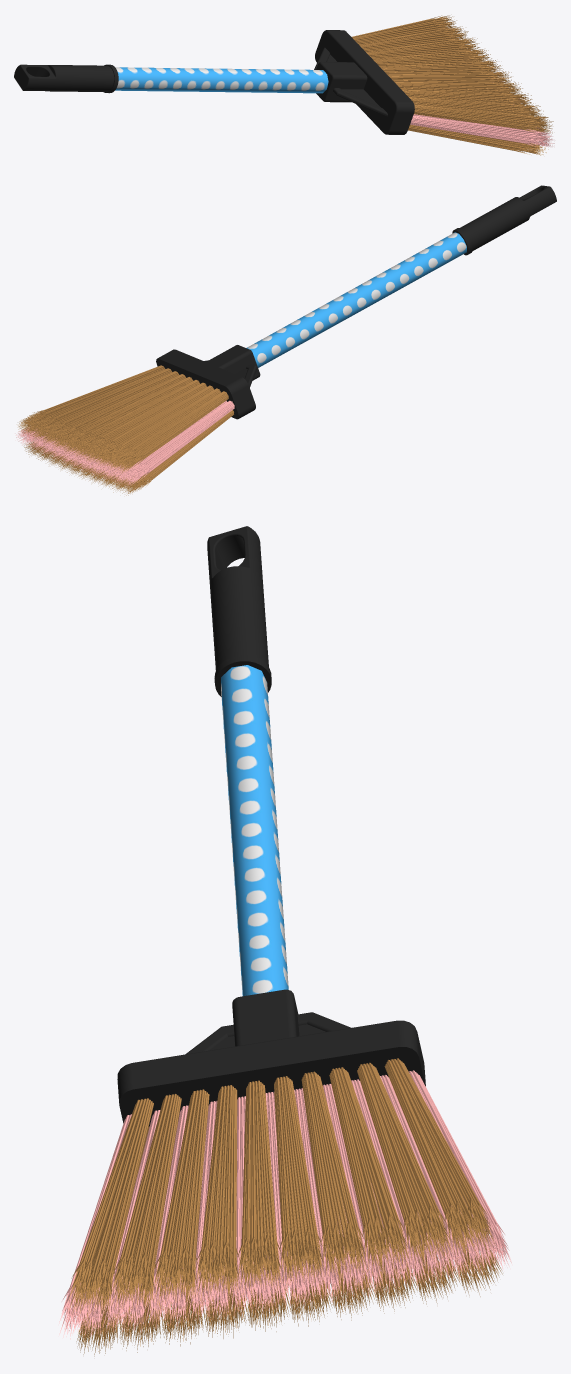
Rendered from brush-small.obj.
3 renders of one model, top to bottom at view 1: azimuth 30°, elevation 25°; view 2: azimuth 210°, elevation 25°; view 3: azimuth 270°, elevation 25°, orthographic. The views are drawn at different scales.
Parts seen in each view (by area): view 1: fx_002, brush_sm, handle, handke_cap, f_mid; view 2: fx_002, handle, brush_sm, f_mid, handke_cap; view 3: fx_002, f_mid, brush_sm, handle, handke_cap.
Part boxes in pixels (bbox=[...]): fx_002: bbox=[352, 15, 553, 155]; brush_sm: bbox=[314, 30, 414, 134]; handle: bbox=[115, 67, 328, 93]; handke_cap: bbox=[14, 64, 118, 93]; f_mid: bbox=[410, 28, 554, 146]; fx_002: bbox=[18, 365, 233, 495]; handle: bbox=[246, 232, 466, 367]; brush_sm: bbox=[156, 345, 260, 419]; f_mid: bbox=[16, 400, 234, 485]; handke_cap: bbox=[452, 185, 556, 255]; fx_002: bbox=[68, 1058, 502, 1356]; f_mid: bbox=[59, 1070, 511, 1339]; brush_sm: bbox=[117, 989, 425, 1126]; handle: bbox=[221, 665, 288, 996]; handke_cap: bbox=[207, 526, 271, 696].
Size of the model in its own units: 608 by 209 by 240.
Materials: 5 (1 with a texture image).
